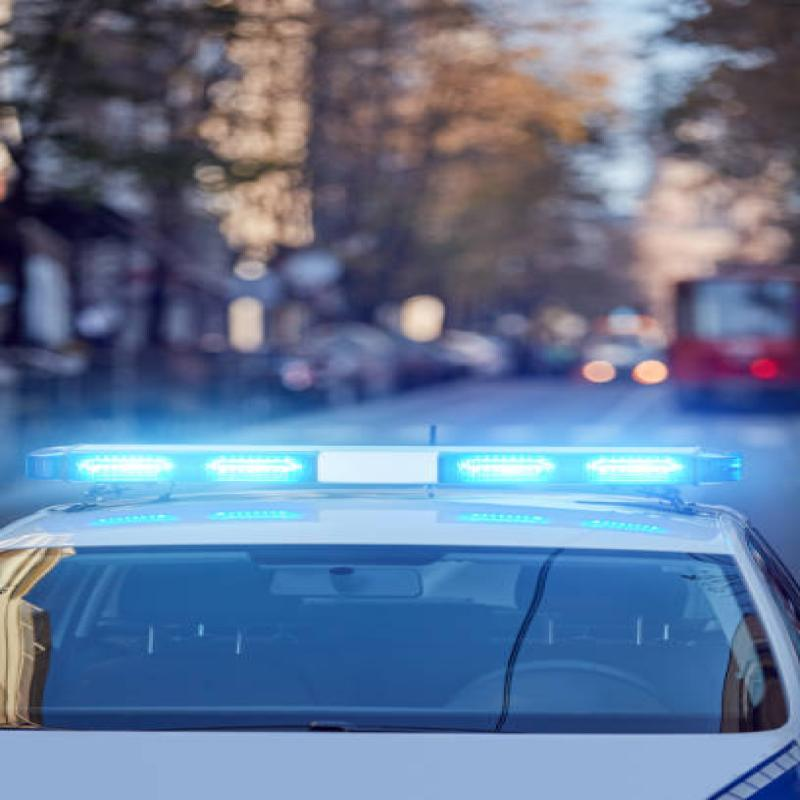AmbulanceSiren: (31, 412, 743, 520)
